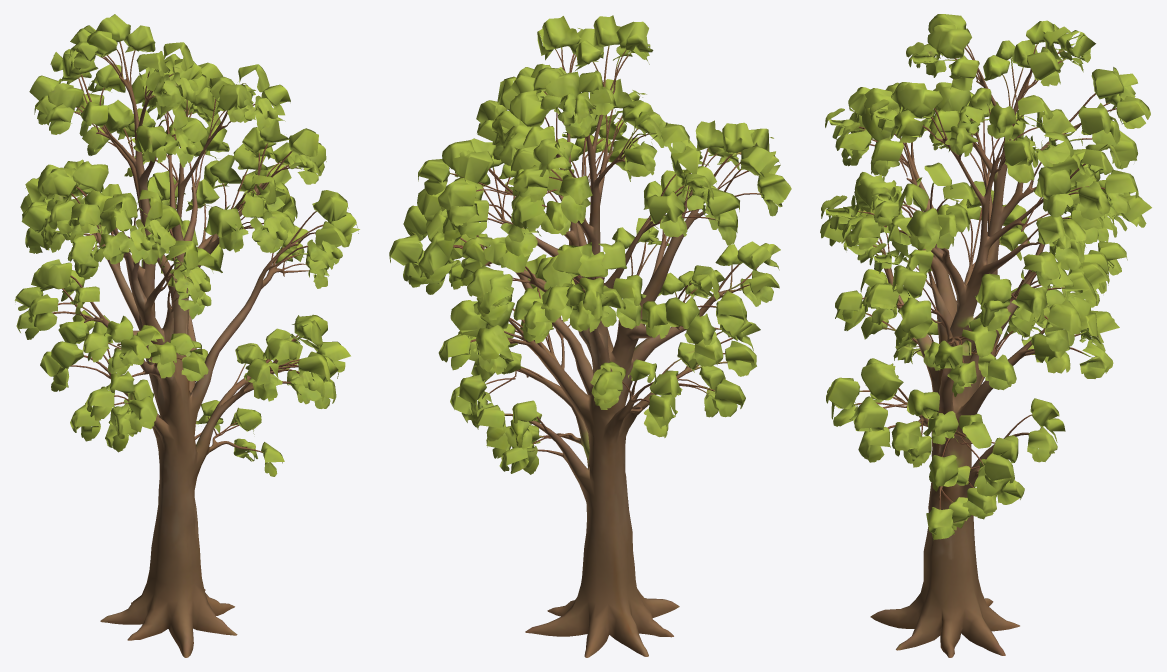
File: stylized-tree.glb
The picture shows the model from 3 angles, left to right: view 1: azimuth 30°, elevation 25°; view 2: azimuth 150°, elevation 25°; view 3: azimuth 270°, elevation 25°; orthographic projection. The views are drawn at different scales.
Visible parts, largest first — view 1: tripo_52477d72_6209_4372_ab34_7efe827027cb; view 2: tripo_52477d72_6209_4372_ab34_7efe827027cb; view 3: tripo_52477d72_6209_4372_ab34_7efe827027cb.
Part boxes in pixels (x1,y1,x2,y2): tripo_52477d72_6209_4372_ab34_7efe827027cb: (14,14,359,657); tripo_52477d72_6209_4372_ab34_7efe827027cb: (389,15,791,657); tripo_52477d72_6209_4372_ab34_7efe827027cb: (820,14,1151,657).
Bounding box in the file's own units: 0.5454 × 0.9995 × 0.4966.
Materials: 1 (1 with a texture image).
